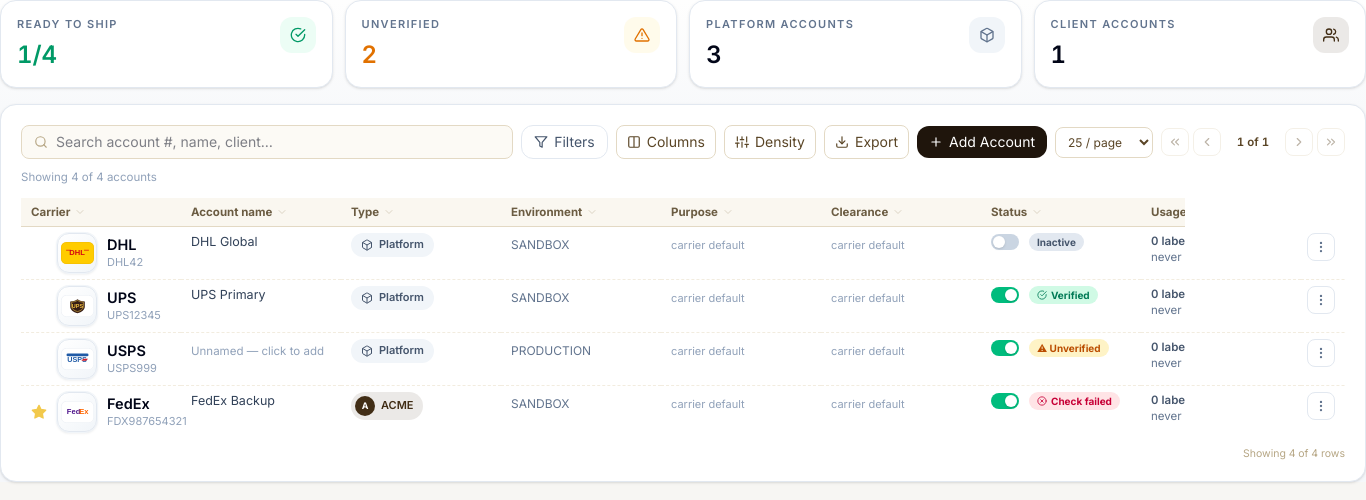
Test: CarrierConnections · search + filters › search input narrows visible rows by account number substring
This screenshot has width=1366, height=500.
Expected: the text "UPS12345" is shown, [107,308,161,324]
Type an FDX-only substring — the caption + row count both update.
Type "FDX" into the field with placeholder "Search account #, name, client…" at (278, 142), box [56,132,500,152]
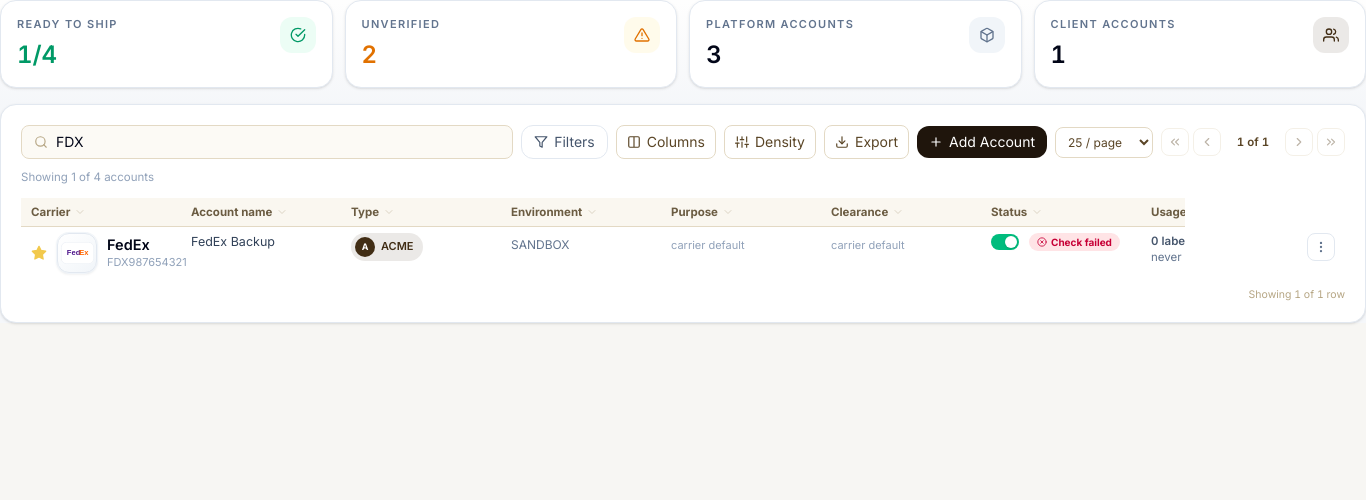
Result: the text "FDX987654321" is shown at [107,255,187,271]
Result: the text "UPS12345" is gone
Result: the text "USPS999" is gone
